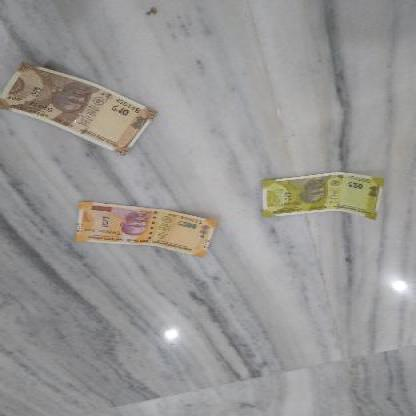New10Front: (1, 68, 166, 154)
New200Front: (74, 203, 218, 260)
New20Front: (263, 174, 384, 219)
